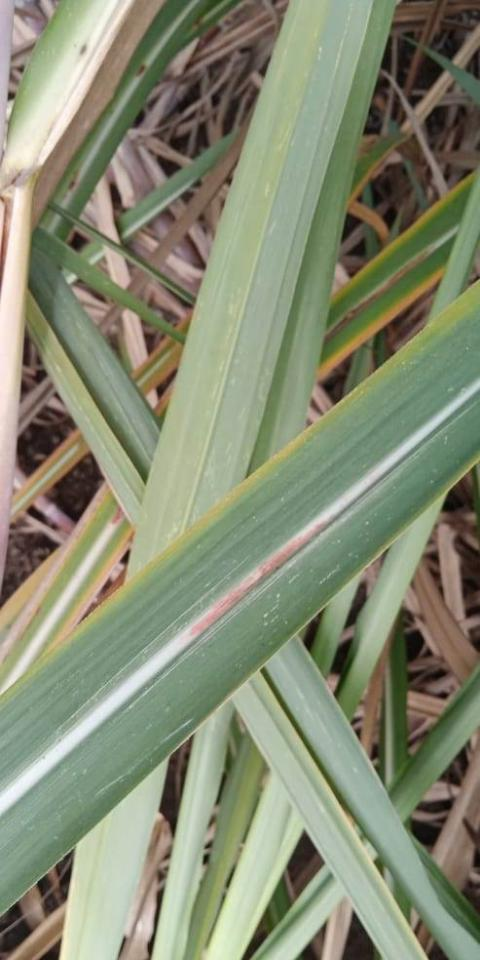RedRot: (190, 515, 335, 639)
